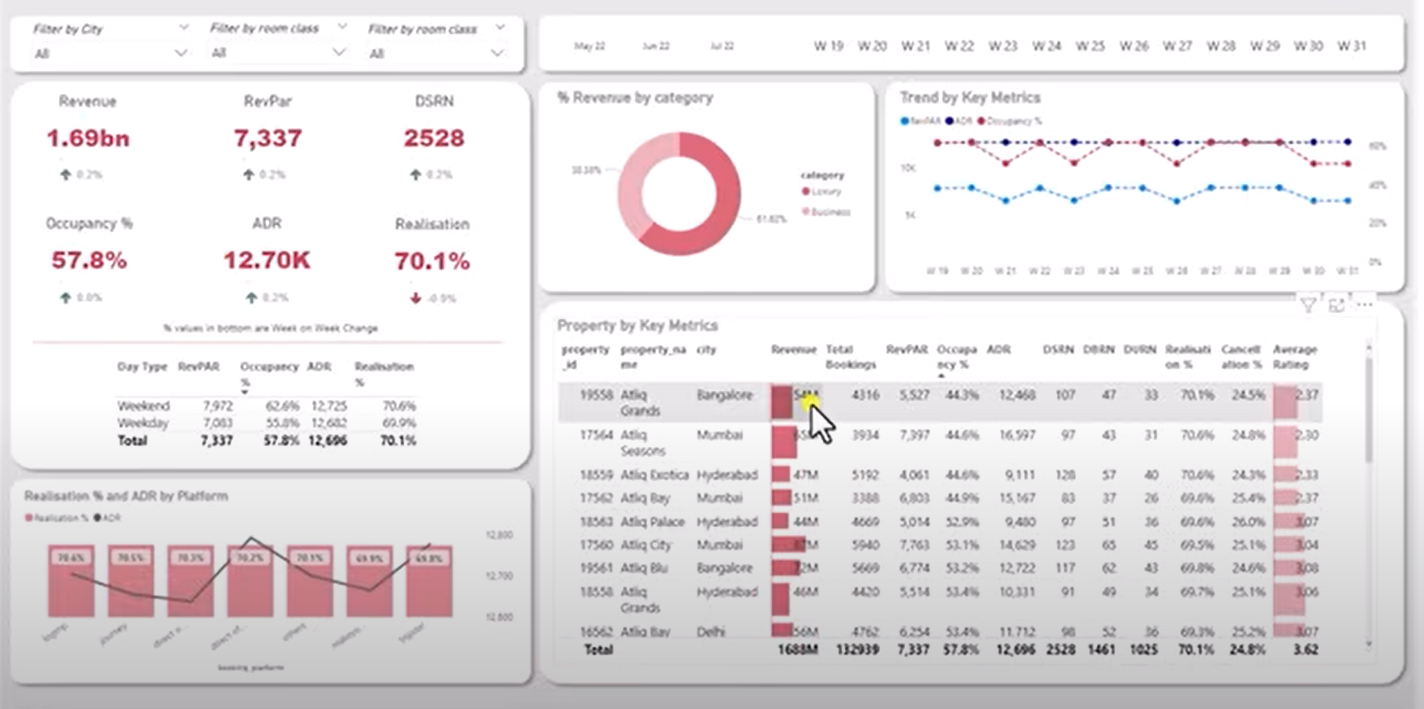

Layout of this report page (visuals, bound fields, positions):
{"tool":"powerbi","page":{"name":"Page 2","canvas":[1745,800],"ordinal":1},"visuals":[{"type":"card","fields":{"Values":["key_measures.Total_successful_bookings"]},"box":[815,244.7,206.9,109.7],"z":0},{"type":"card","fields":{"Values":["key_measures.RevPAR"]},"box":[752,379.6,142.1,107.9],"z":1000},{"type":"card","fields":{"Values":["key_measures.Average_rating"]},"box":[636.9,244.7,147.5,106.1],"z":2000},{"type":"card","fields":{"Values":["key_measures.Cancellation%"]},"box":[591.9,377.8,149.3,109.7],"z":3000},{"type":"barChart","fields":{"Category":["fact_aggregated_bookings.room_category"],"Y":["key_measures.Daily_sellable_room_nights","key_measures.Daily_utilized_room_nights"]},"box":[1272,518.2,464.2,262.7],"z":4000},{"type":"stackedAreaChart","fields":{"Y":["Sum(fact_bookings.revenue_generated)","Sum(fact_bookings.revenue_realized)"],"Category":["fact_bookings.booking_date.Variation.Date Hierarchy.Month"]},"box":[1239.6,7.2,505.6,237.5],"z":5000},{"type":"tableEx","fields":{"Values":["dim_hotels.property_name","dim_hotels.city","key_measures.Daily_utilized_room_nights","key_measures.Daily_sellable_room_nights","key_measures.Revenue","Avg(fact_aggregated_bookings.capacity)","key_measures.Occupancy%"]},"box":[575.7,502,685.5,278.9],"z":6000},{"type":"slicer","fields":{"Values":["dim_date.date.Variation.Date Hierarchy.Quarter"]},"box":[24.1,8,158.9,104.6],"z":7000},{"type":"slicer","fields":{"Values":["dim_hotels.city"]},"box":[191.1,8,158.9,104.6],"z":8000},{"type":"slicer","fields":{"Values":["fact_aggregated_bookings.room_category"]},"box":[24.1,128.7,158.9,102.6],"z":9000},{"type":"lineStackedColumnComboChart","fields":{"Y":["key_measures.Realisation%"],"Category":["fact_bookings.booking_platform"],"Y2":["key_measures.ADR"]},"box":[0,239.3,575.7,248.3],"z":10000},{"type":"donutChart","fields":{"Y":["key_measures.Revenue"],"Category":["dim_hotels.category"]},"box":[516.4,9,298.7,208.7],"z":11000},{"type":"card","fields":{"Values":["key_measures.Revenue"]},"box":[1045.3,244.7,149.3,111.5],"z":12000},{"type":"card","fields":{"Values":["key_measures.ADR"]},"box":[919.4,379.6,149.3,107.9],"z":13000},{"type":"card","fields":{"Values":["key_measures.Occupancy%"]},"box":[1088.5,379.6,151.1,107.9],"z":14000},{"type":"columnChart","fields":{"Category":["dim_hotels.property_name"],"Y":["key_measures.Revenue"]},"box":[10.8,503.8,554.1,278.9],"z":15000},{"type":"slicer","fields":{"Values":["dim_hotels.category"]},"box":[199.1,128.7,150.8,102.6],"z":16000},{"type":"pieChart","fields":{"Category":["dim_rooms.room_class"],"Y":["CountNonNull(fact_bookings.booking_id)"]},"box":[824,9,397.6,208.7],"z":17000},{"type":"slicer","fields":{"Values":["dim_date.day_type"]},"box":[368.8,7.2,136.7,224.9],"z":18000},{"type":"lineChart","fields":{"Y2":["key_measures.Occupancy%"],"Y":["key_measures.RevPAR","key_measures.ADR"],"Category":["dim_date.week no"]},"box":[1261.2,259.1,484,242.9],"z":19000}]}

Visuals, with their boxes on the page's 1745x800 design canvas (x1, y1, x2, y2). These are canvas units, not pixel positions in the 1424x709 screenshot, which may show the page scaled, cropped or inside an application window:
card - key_measures.Total_successful_bookings: box(815, 245, 1022, 354)
card - key_measures.RevPAR: box(752, 380, 894, 488)
card - key_measures.Average_rating: box(637, 245, 784, 351)
card - key_measures.Cancellation%: box(592, 378, 741, 488)
barChart - fact_aggregated_bookings.room_category x key_measures.Daily_sellable_room_nights: box(1272, 518, 1736, 781)
stackedAreaChart - Sum(fact_bookings.revenue_generated) x Sum(fact_bookings.revenue_realized): box(1240, 7, 1745, 245)
tableEx - dim_hotels.property_name x dim_hotels.city: box(576, 502, 1261, 781)
slicer - dim_date.date.Variation.Date Hierarchy.Quarter: box(24, 8, 183, 113)
slicer - dim_hotels.city: box(191, 8, 350, 113)
slicer - fact_aggregated_bookings.room_category: box(24, 129, 183, 231)
lineStackedColumnComboChart - key_measures.Realisation% x fact_bookings.booking_platform: box(0, 239, 576, 488)
donutChart - key_measures.Revenue x dim_hotels.category: box(516, 9, 815, 218)
card - key_measures.Revenue: box(1045, 245, 1195, 356)
card - key_measures.ADR: box(919, 380, 1069, 488)
card - key_measures.Occupancy%: box(1088, 380, 1240, 488)
columnChart - dim_hotels.property_name x key_measures.Revenue: box(11, 504, 565, 783)
slicer - dim_hotels.category: box(199, 129, 350, 231)
pieChart - dim_rooms.room_class x CountNonNull(fact_bookings.booking_id): box(824, 9, 1222, 218)
slicer - dim_date.day_type: box(369, 7, 506, 232)
lineChart - key_measures.Occupancy% x key_measures.RevPAR: box(1261, 259, 1745, 502)
